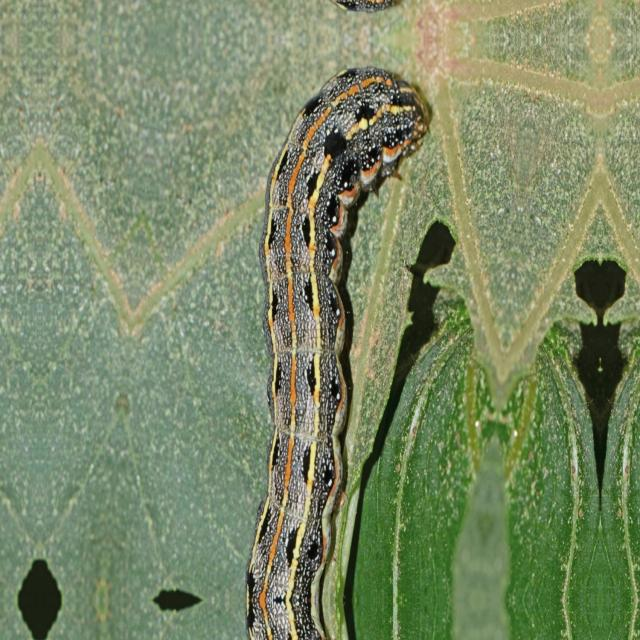armyworm: (244, 64, 430, 638)
